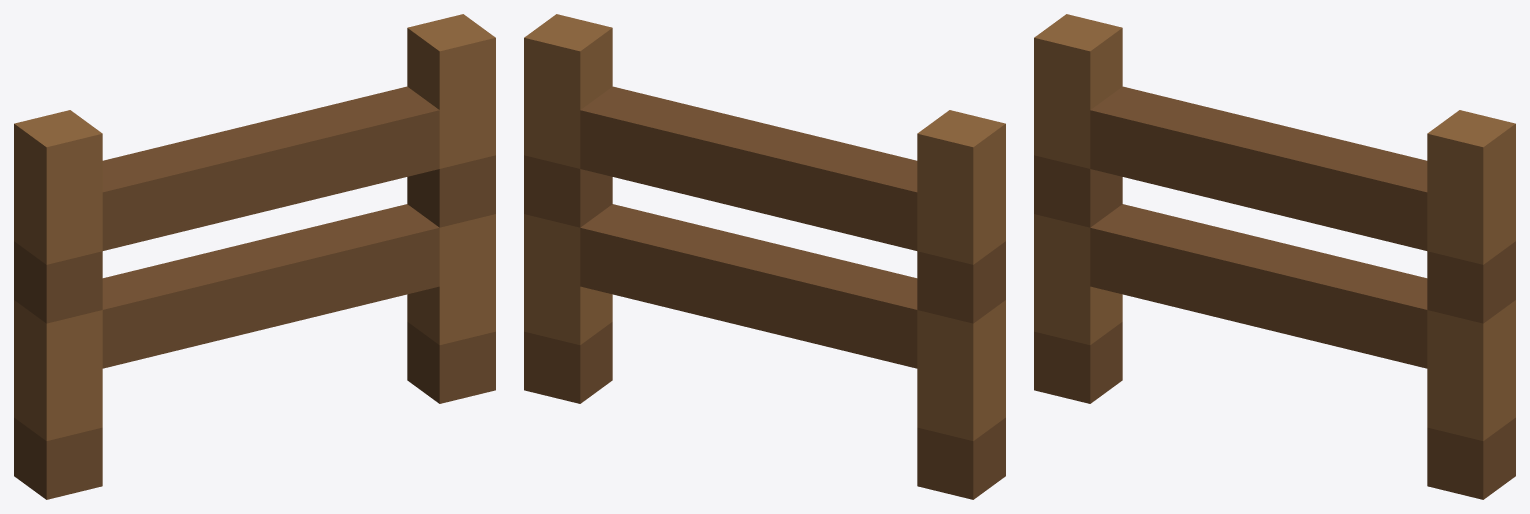
Rendered from hearthvale_prop_fence.obj.
3 views of the same model, side by side, from view 1: azimuth 30°, elevation 25°; view 2: azimuth 150°, elevation 25°; view 3: azimuth 330°, elevation 25° (orthographic).
Visible parts, largest first — view 1: palette_1, palette_15; view 2: palette_1, palette_15; view 3: palette_1, palette_15.
Boxes of the visible parts, x1=… form: palette_1: x1=14, y1=86, x2=495, y2=499; palette_15: x1=14, y1=14, x2=495, y2=440; palette_1: x1=524, y1=86, x2=1005, y2=499; palette_15: x1=524, y1=14, x2=1005, y2=440; palette_1: x1=1034, y1=86, x2=1515, y2=499; palette_15: x1=1034, y1=14, x2=1515, y2=440.
Size of the model in its own units: 0.5 by 0.375 by 0.0625.
